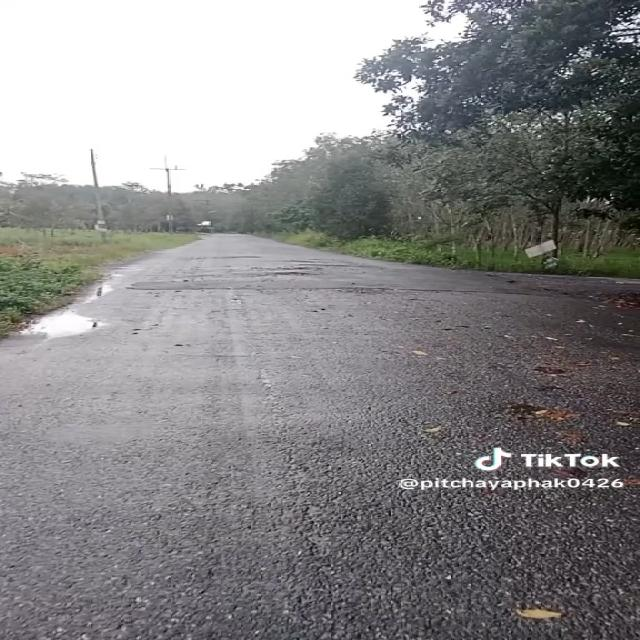Poth-hole: (229, 242, 338, 286)
